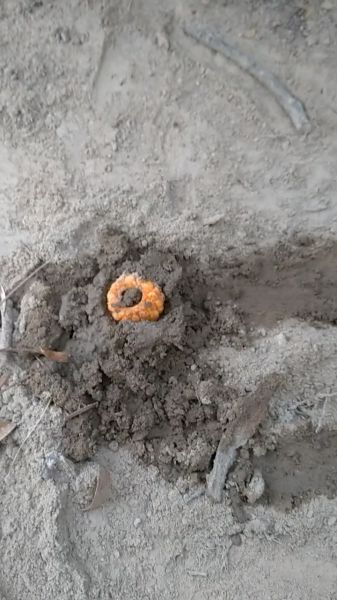eggs: (100, 266, 170, 329)
